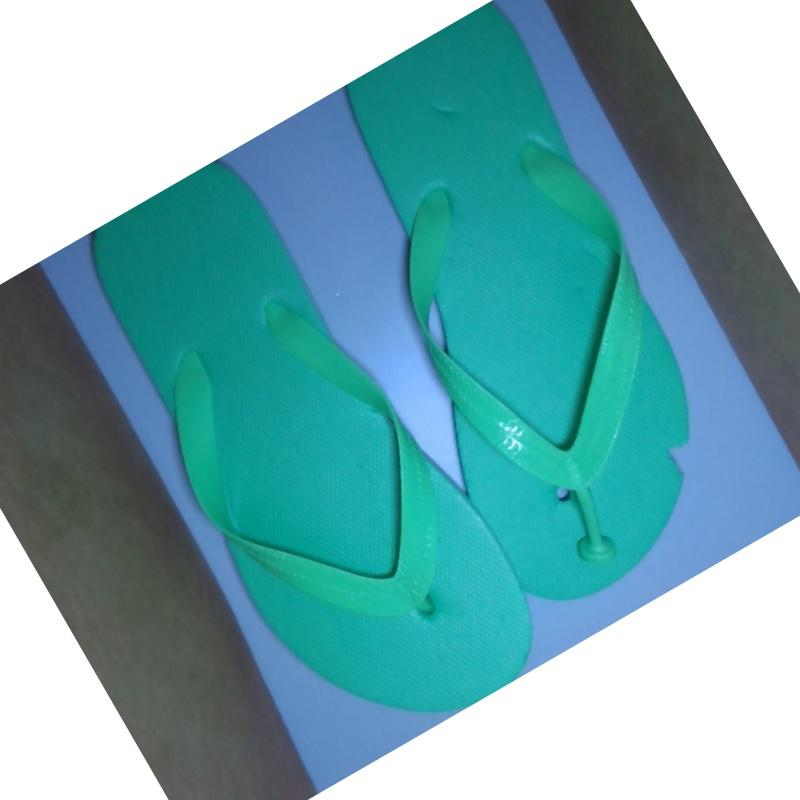chipped: (653, 431, 704, 495)
detached: (565, 520, 628, 575)
